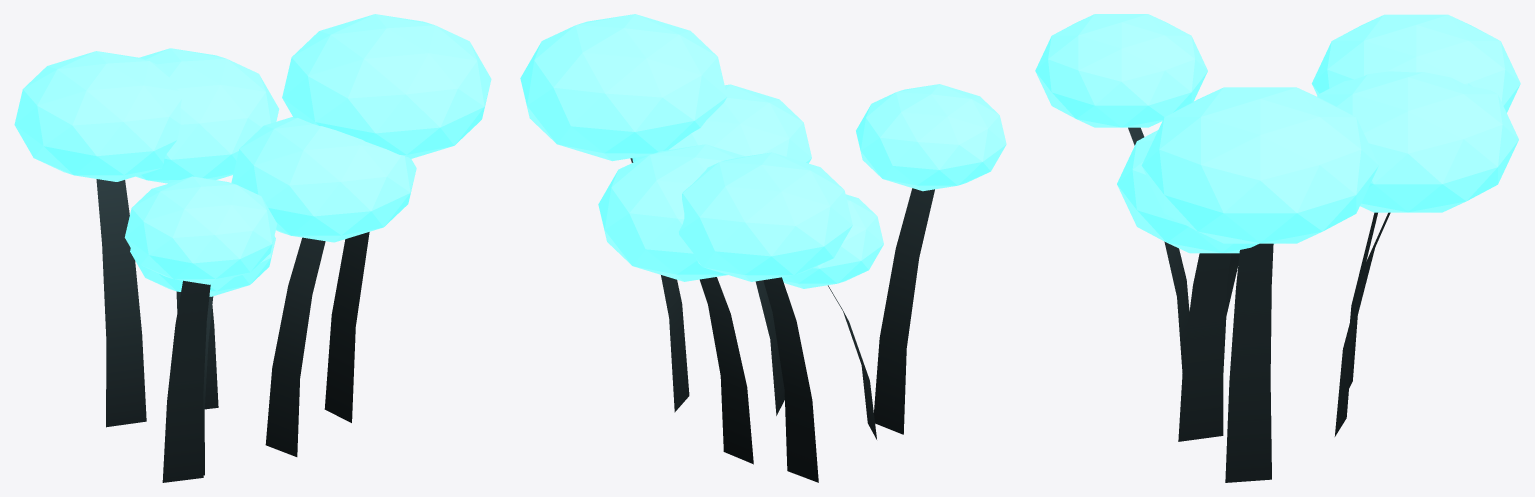
Rendered from mushroom_glow_0.glb.
The picture shows the model from 3 angles, left to right: view 1: azimuth 30°, elevation 25°; view 2: azimuth 150°, elevation 25°; view 3: azimuth 270°, elevation 25°; orthographic projection. The views are drawn at different scales.
Visible parts, largest first — view 1: GlowMushrooms; view 2: GlowMushrooms; view 3: GlowMushrooms.
Part boxes in pixels (box(x1,y1,x2,y2)): GlowMushrooms: box(14, 14, 491, 482); GlowMushrooms: box(520, 14, 1006, 482); GlowMushrooms: box(1035, 14, 1520, 482).
Bounding box in the file's own units: 0.3681 × 0.3258 × 0.3485.
